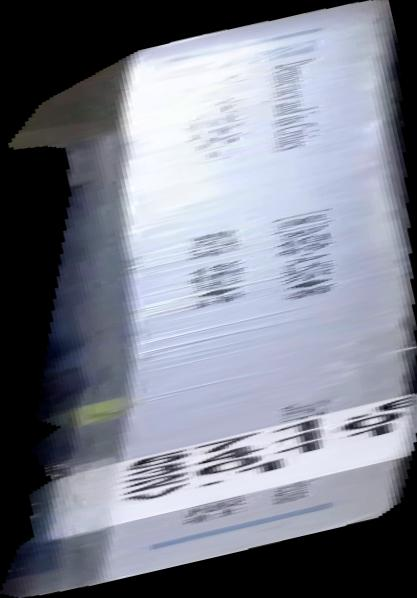book: (1, 1, 417, 598)
